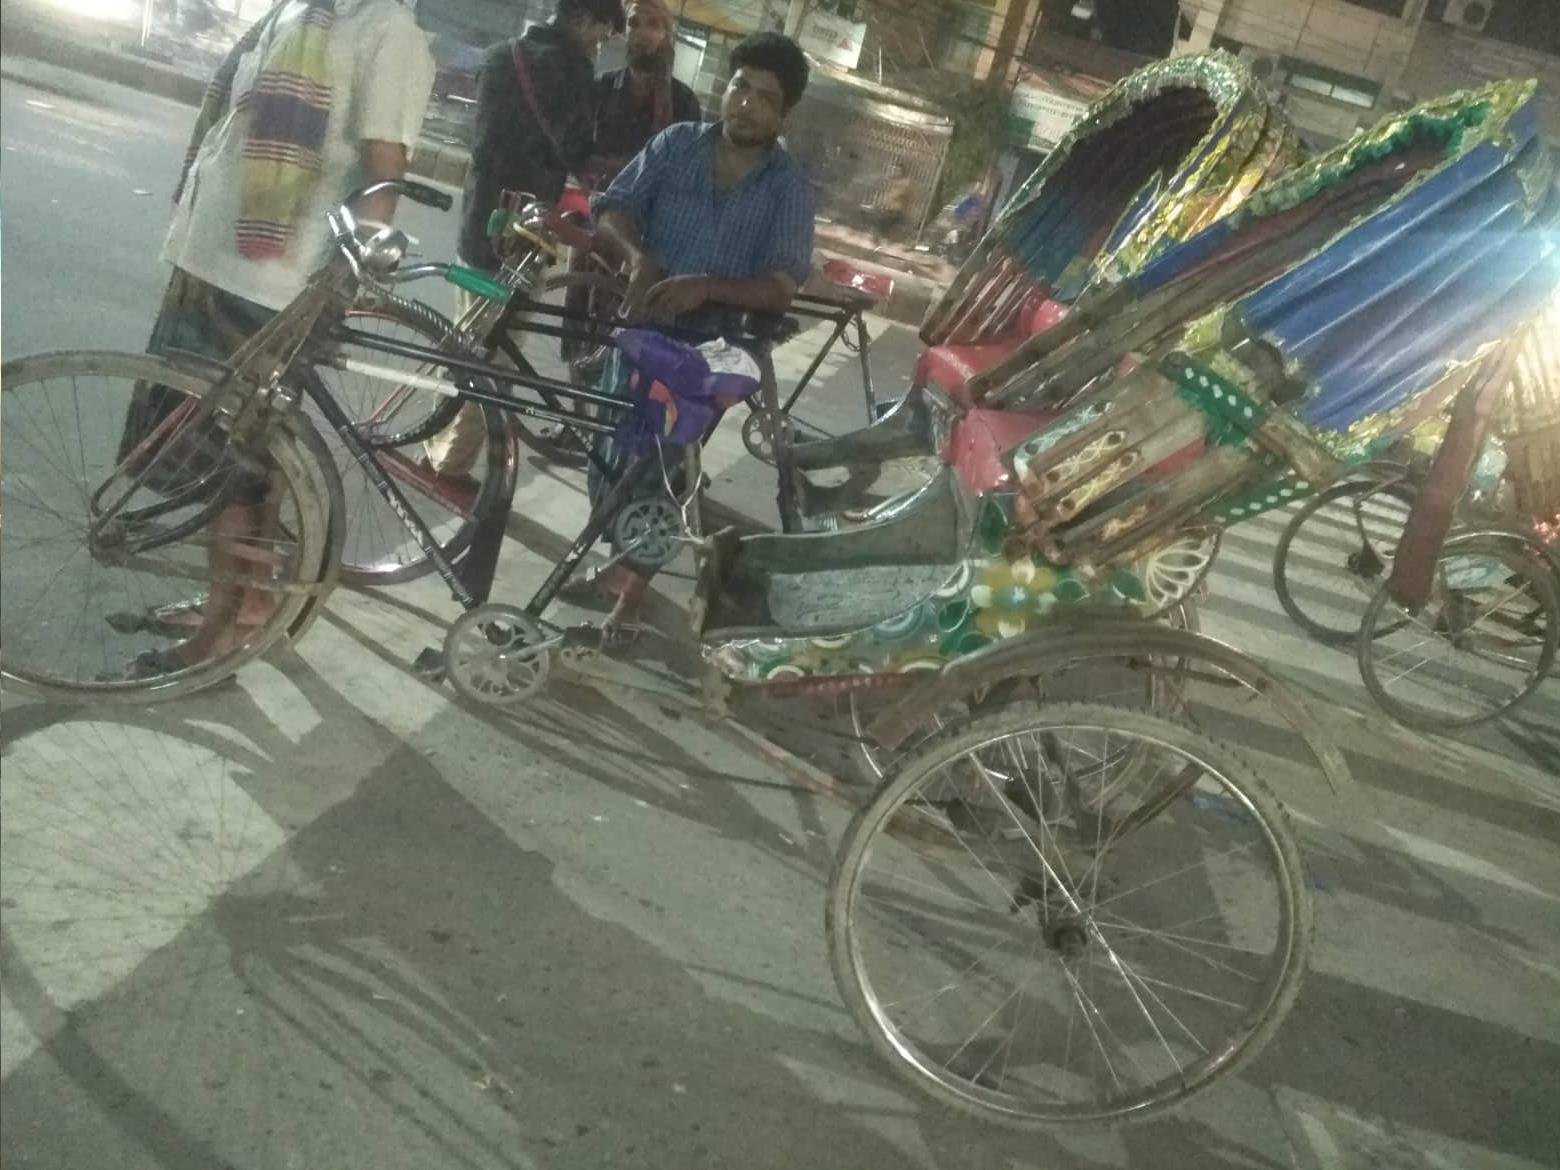Rickshaw: (6, 45, 1549, 1125), (888, 37, 1306, 528)
